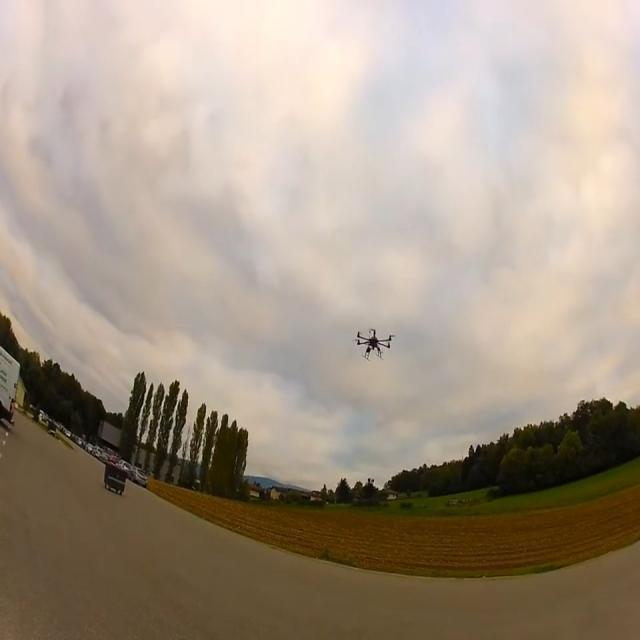drone: (354, 327, 394, 361)
